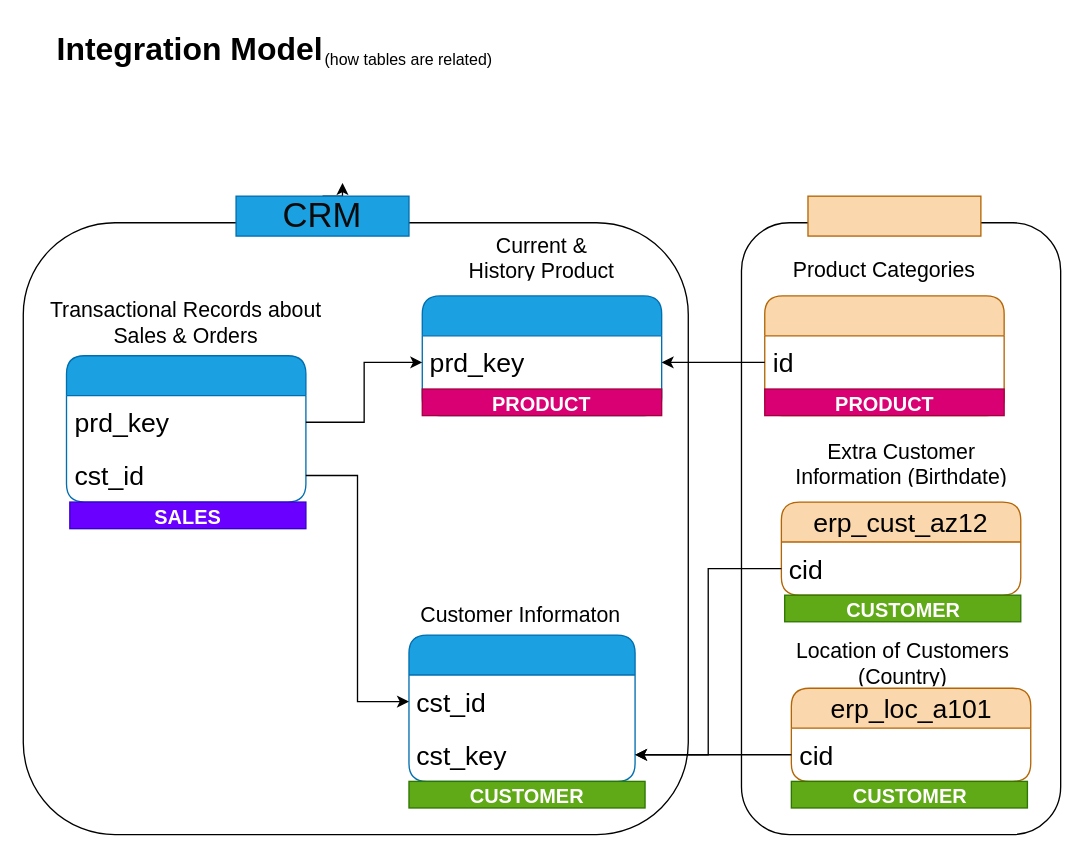
This 1084x858 diagram has some shape labels left out. Here are the shapes that lost their labels. From the top down, the box of each, then its label:
(807, 195, 981, 236): ERP
(421, 295, 662, 416): crm_prd_info
(763, 295, 1004, 416): erp_px_cat_g1v2
(65, 354, 306, 502): crm_sales_details
(408, 634, 635, 781): crm_cust_info
